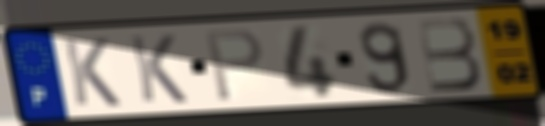4: (280, 23, 341, 100)
9: (357, 20, 412, 95)
B: (413, 15, 486, 95)
K: (125, 32, 191, 105), (58, 36, 124, 109)
P: (202, 27, 267, 105)
